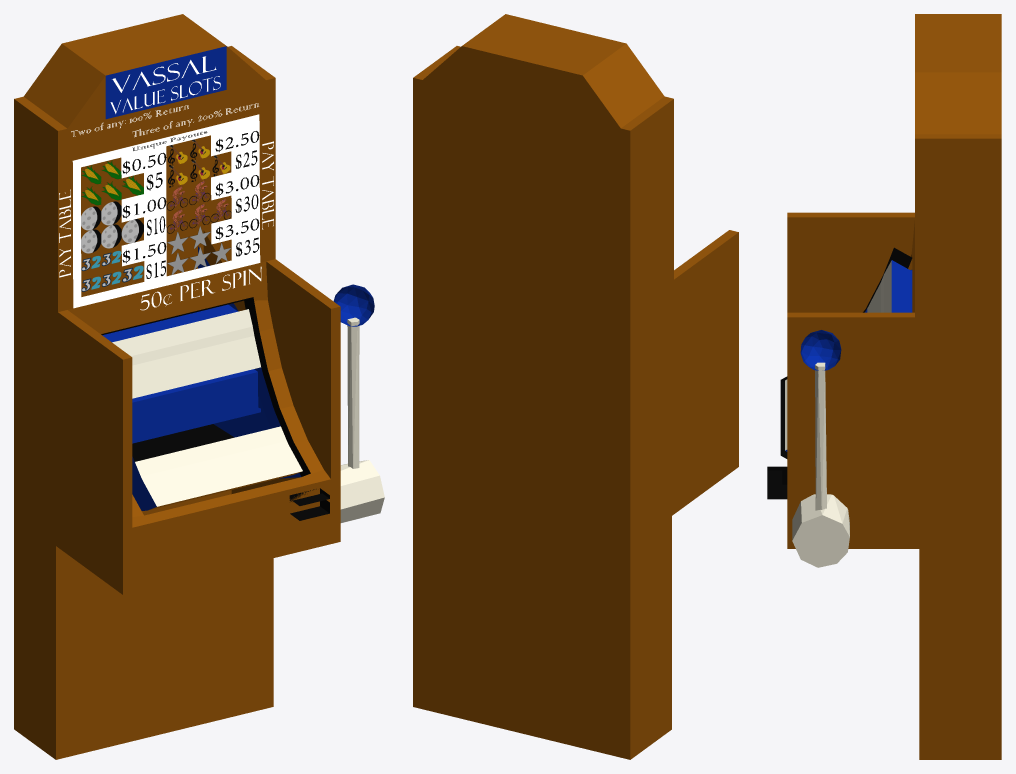
Rendered from Slot Machine - Vassal.glb.
3 renders of one model, left to right at view 1: azimuth 30°, elevation 25°; view 2: azimuth 150°, elevation 25°; view 3: azimuth 270°, elevation 25°, orthographic.
Parts seen in each view (by area): view 1: Slot Machine, Pull Handle, Payouts, Labels, Title, Text; view 2: Slot Machine; view 3: Slot Machine, Pull Handle.
Part boxes in pixels (x1=…): Slot Machine: x1=14, y1=14, x2=340, y2=759; Pull Handle: x1=333, y1=284, x2=384, y2=522; Payouts: x1=122, y1=131, x2=259, y2=278; Labels: x1=59, y1=141, x2=273, y2=310; Title: x1=110, y1=56, x2=220, y2=113; Text: x1=71, y1=103, x2=258, y2=150; Slot Machine: x1=413, y1=14, x2=738, y2=759; Slot Machine: x1=767, y1=14, x2=1001, y2=759; Pull Handle: x1=792, y1=330, x2=849, y2=567.
Size of what is drawn, in the model's own units: 0.8369 by 2.03 by 0.6478.
Materials: 13 (6 with a texture image).
